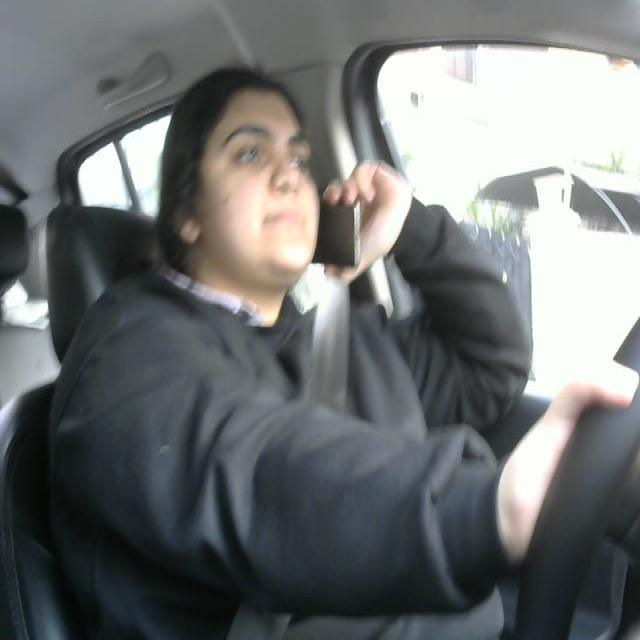mobile use: (308, 180, 363, 275)
